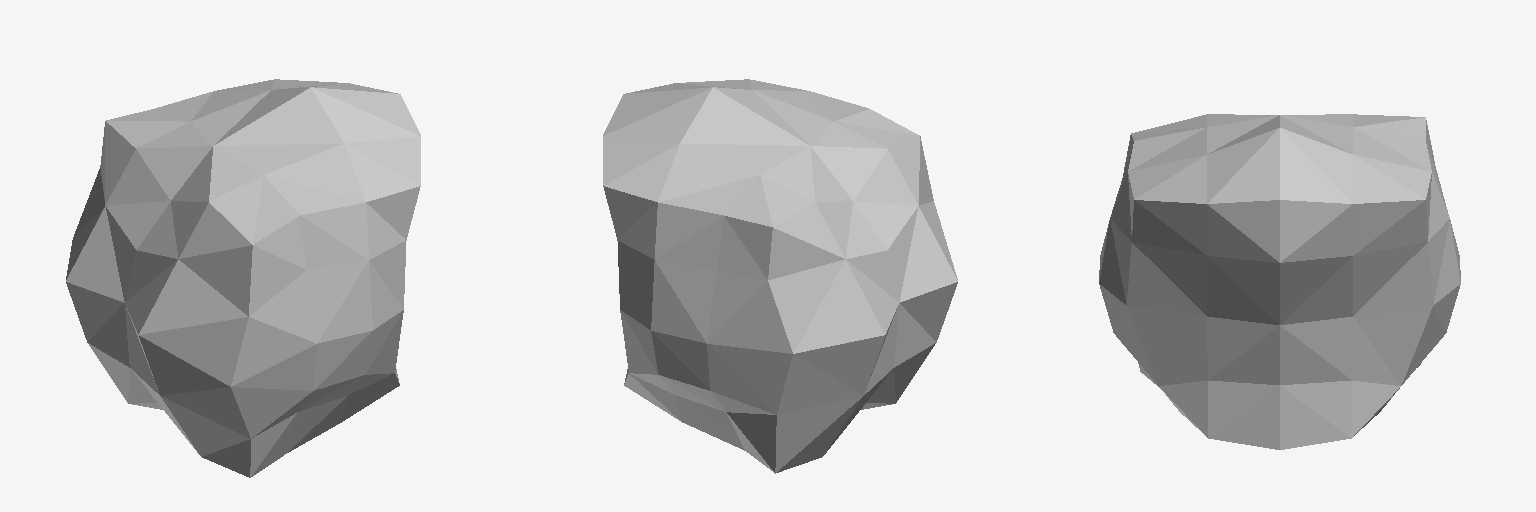
The model's file is CollapserAmmo_LOD0.obj.
3 views of the same model, side by side, from view 1: azimuth 30°, elevation 25°; view 2: azimuth 150°, elevation 25°; view 3: azimuth 270°, elevation 25° (orthographic).
Visible parts, largest first — view 1: Cube_Cube.001; view 2: Cube_Cube.001; view 3: Cube_Cube.001.
Part boxes in pixels (x1,y1,x2,y2): Cube_Cube.001: (66, 79, 420, 477); Cube_Cube.001: (603, 79, 957, 473); Cube_Cube.001: (1099, 114, 1460, 449).
Bounding box in the file's own units: 0.9917 × 0.9559 × 1.01.